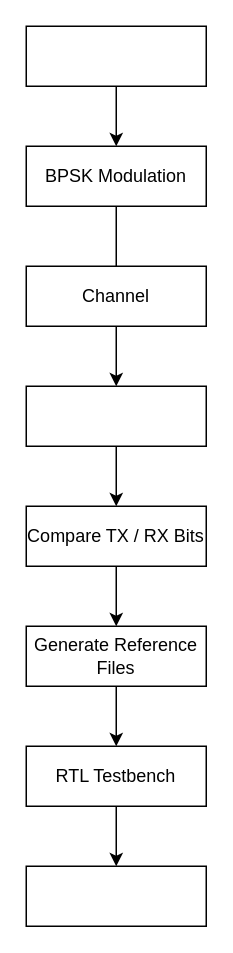
Image size: 233x953. Some labels were removed from this diagram. Each missing label, with the centre of its shape:
Correlation Demodulation: the point at 115,415
Generate Test Cases: the point at 115,55
PASS / FAIL: the point at 115,895
